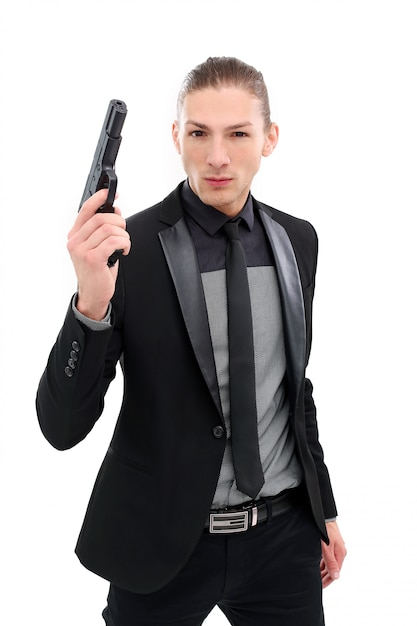gun: (77, 96, 136, 265)
